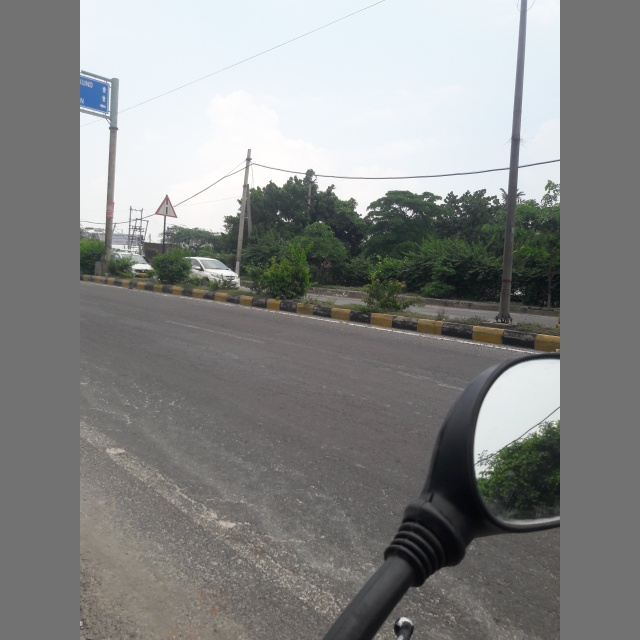Side_Road_Right: (104, 99, 579, 579)
